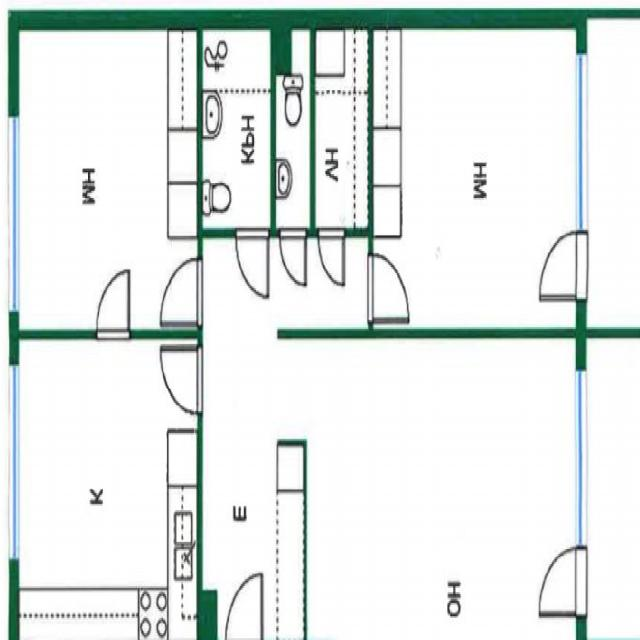door: (540, 232, 588, 298), (540, 548, 588, 614), (159, 346, 203, 412), (159, 259, 203, 325), (368, 254, 411, 321), (226, 575, 262, 640), (97, 269, 129, 339), (236, 227, 268, 296), (318, 226, 344, 284), (280, 226, 306, 284)
